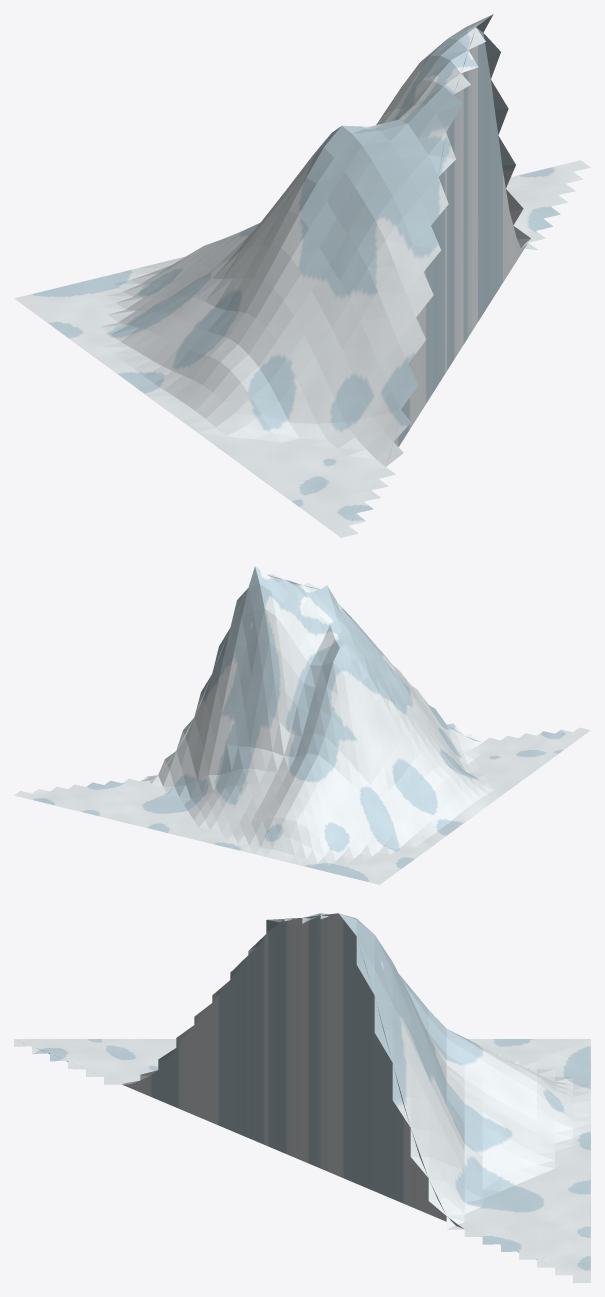
The model's file is Snow_Mountains_11_SW.obj.
3 views of the same model, one above another, from view 1: azimuth 30°, elevation 25°; view 2: azimuth 150°, elevation 25°; view 3: azimuth 270°, elevation 25° (orthographic). The views are drawn at different scales.
Bounding box in the file's own units: 10 × 5.18 × 10.
1 material, 1 textured.
